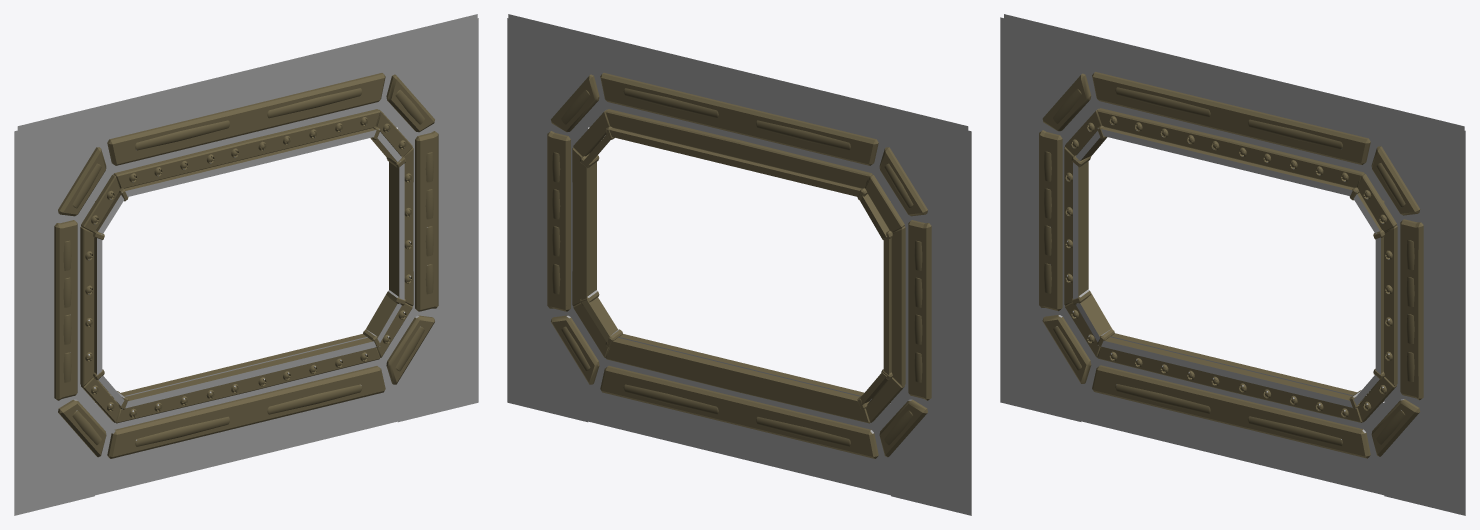
Rendered from Window_bigger_1.fbx.
3 renders of one model, left to right at view 1: azimuth 30°, elevation 25°; view 2: azimuth 150°, elevation 25°; view 3: azimuth 330°, elevation 25°, orthographic.
Visible parts, largest first — view 1: polySurface171; view 2: polySurface171; view 3: polySurface171.
Part boxes in pixels (x1,y1,x2,y2): polySurface171: (14,14,478,515); polySurface171: (507,14,971,515); polySurface171: (1000,14,1465,515).
Bounding box in the file's own units: 36.62 × 29.29 × 1.59.
